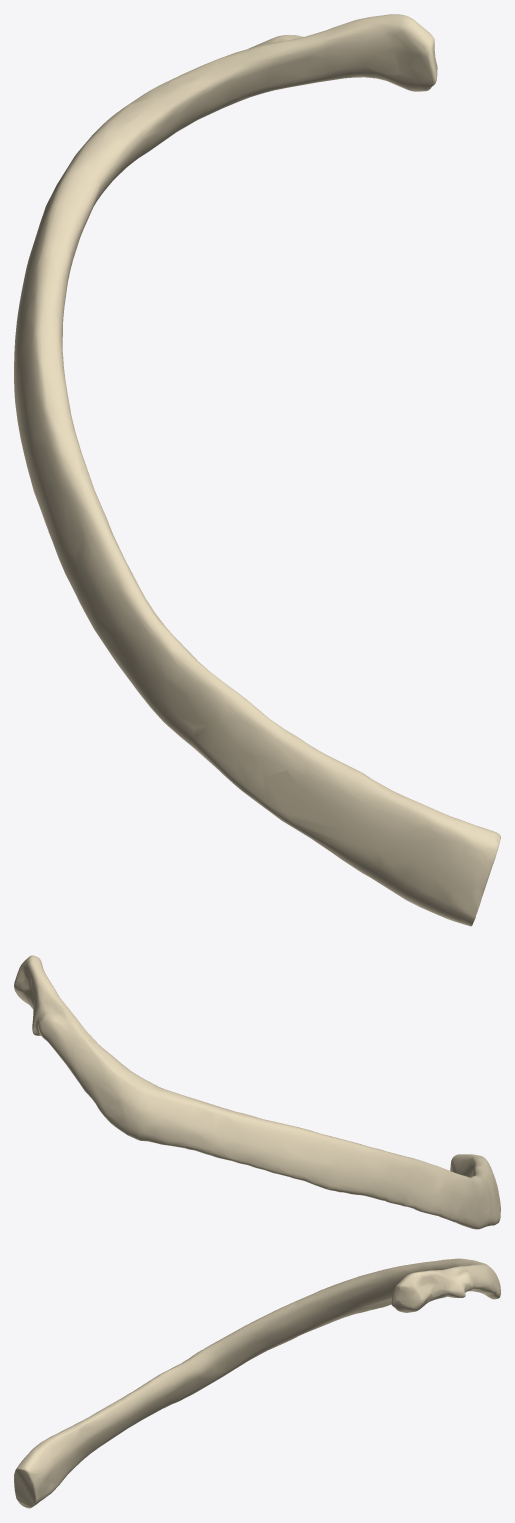
The model's file is esqueleto-sixth-rib-r.glb.
3 views of the same model, one above another, from view 1: azimuth 30°, elevation 25°; view 2: azimuth 150°, elevation 25°; view 3: azimuth 270°, elevation 25° (orthographic). The views are drawn at different scales.
Visible parts, largest first — view 1: Sixth rib.r; view 2: Sixth rib.r; view 3: Sixth rib.r.
Part boxes in pixels (<box>): Sixth rib.r: <box>14,14,500,926</box>; Sixth rib.r: <box>14,955,500,1229</box>; Sixth rib.r: <box>14,1258,500,1508</box>.
Bounding box in the file's own units: 0.1231 × 0.1386 × 0.1962.
